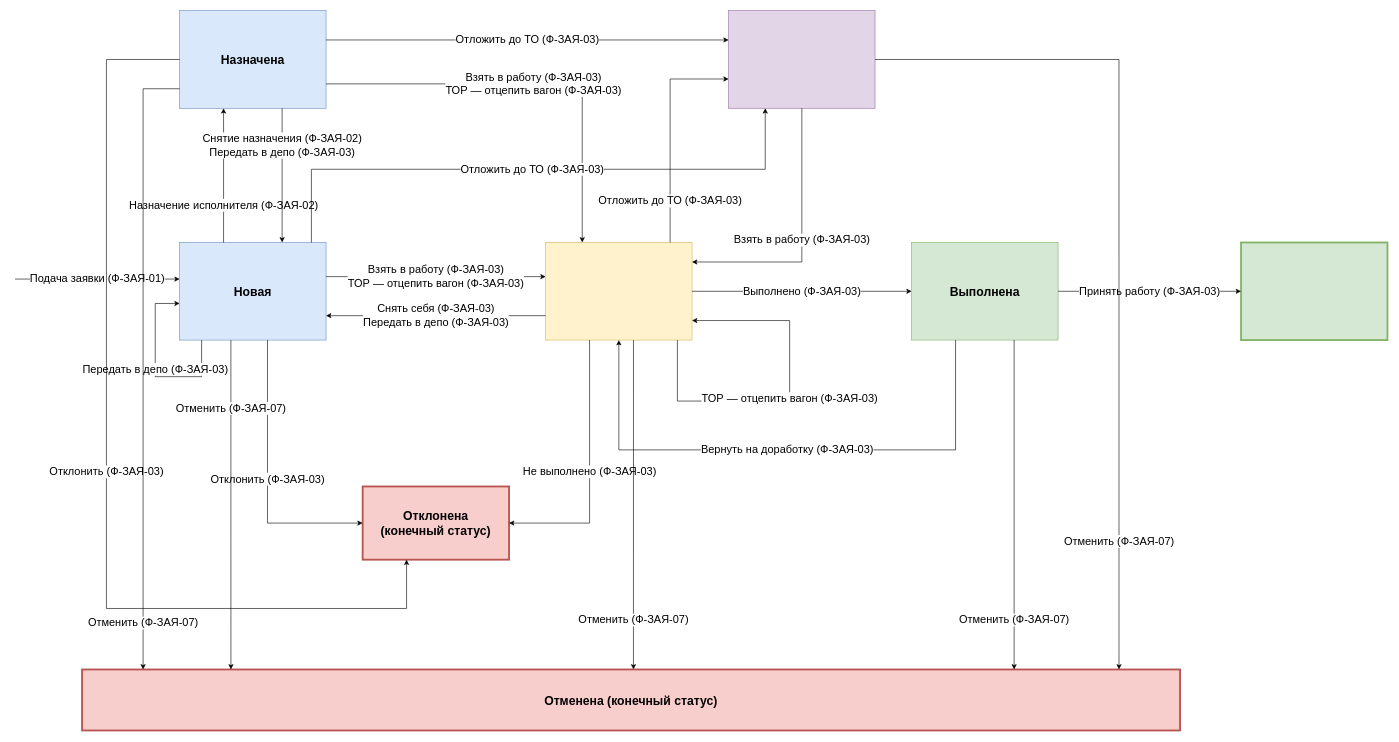
Some shapes in this 1399 by 742 pixel diagram are drawn without their labels. The shapes that lost their labels are listed below. From the top down, each one's centre as x and y in pixels, then its label:
At [801,59]: "Отложена до ТО".
At [618,291]: "В работе".
At [1314,291]: "Закрыта (конечный статус)".
